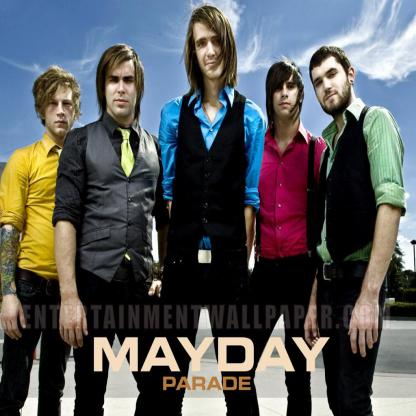face: (311, 58, 349, 114), (104, 61, 138, 118), (193, 22, 227, 79), (47, 83, 76, 137), (272, 70, 300, 119)
